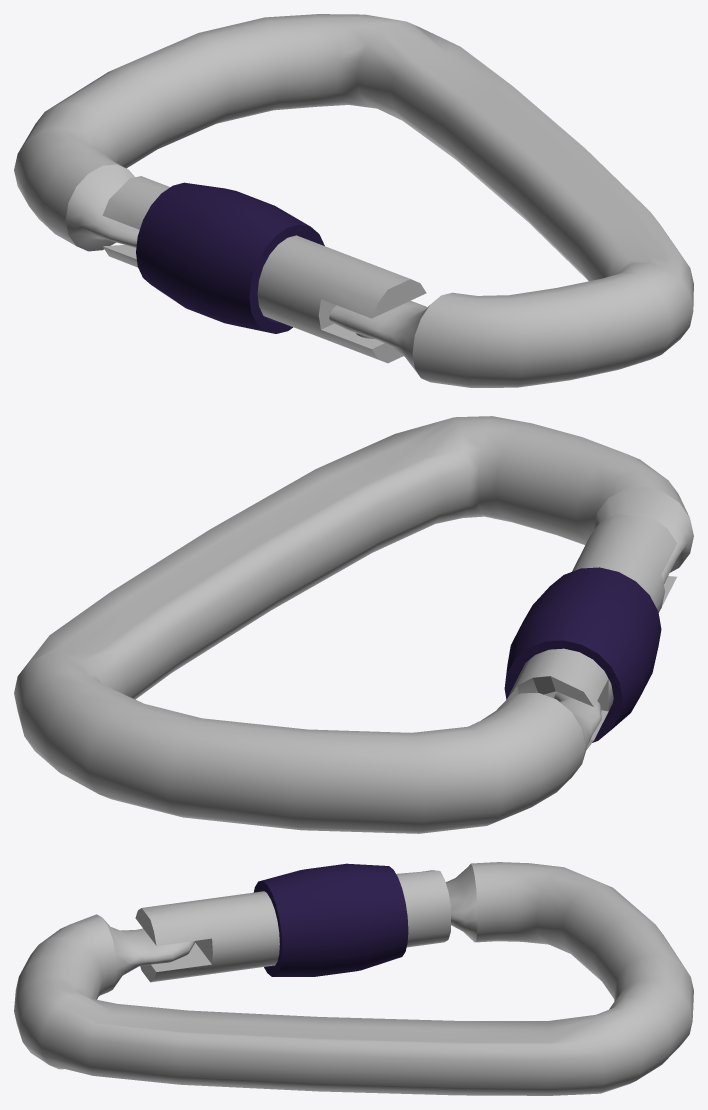
The model's file is carabina.glb.
3 renders of one model, top to bottom at view 1: azimuth 30°, elevation 25°; view 2: azimuth 150°, elevation 25°; view 3: azimuth 270°, elevation 25°, orthographic. The views are drawn at different scales.
Parts seen in each view (by area): view 1: Carabiner.002; view 2: Carabiner.002; view 3: Carabiner.002.
Part boxes in pixels (box(x1,y1,x2,y2)): Carabiner.002: box(14, 14, 693, 387); Carabiner.002: box(14, 416, 693, 833); Carabiner.002: box(14, 862, 693, 1095).
Bounding box in the file's own units: 0.3398 × 0.0821 × 0.5119.
